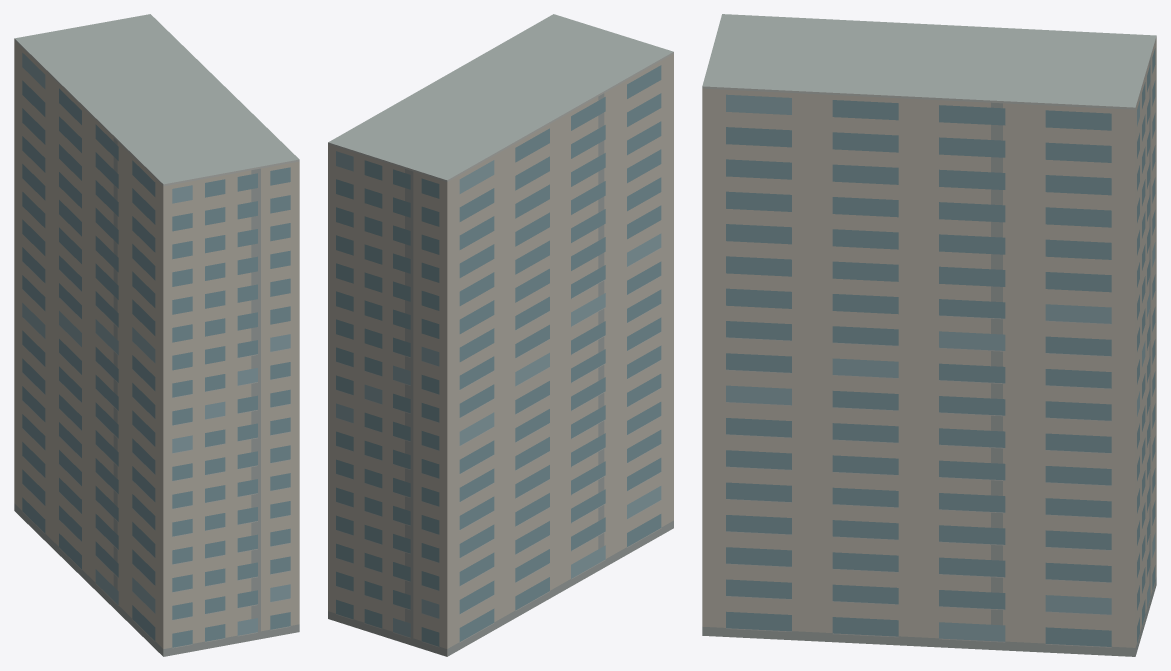
File: residential-a3313c29-ce3e-4774-8acf-fb66d836de86.glb
The picture shows the model from 3 angles, left to right: view 1: azimuth 30°, elevation 25°; view 2: azimuth 150°, elevation 25°; view 3: azimuth 270°, elevation 25°; orthographic projection. The views are drawn at different scales.
Parts seen in each view (by area): view 1: residential-a3313c29-ce3e-4774-8acf-fb66d836de86.tmp; view 2: residential-a3313c29-ce3e-4774-8acf-fb66d836de86.tmp; view 3: residential-a3313c29-ce3e-4774-8acf-fb66d836de86.tmp.
Boxes of the visible parts, x1=… form: residential-a3313c29-ce3e-4774-8acf-fb66d836de86.tmp: x1=14, y1=14, x2=299, y2=656; residential-a3313c29-ce3e-4774-8acf-fb66d836de86.tmp: x1=328, y1=14, x2=673, y2=656; residential-a3313c29-ce3e-4774-8acf-fb66d836de86.tmp: x1=702, y1=14, x2=1156, y2=656.
Size of the model in its own units: 21.93 by 60 by 44.98.
